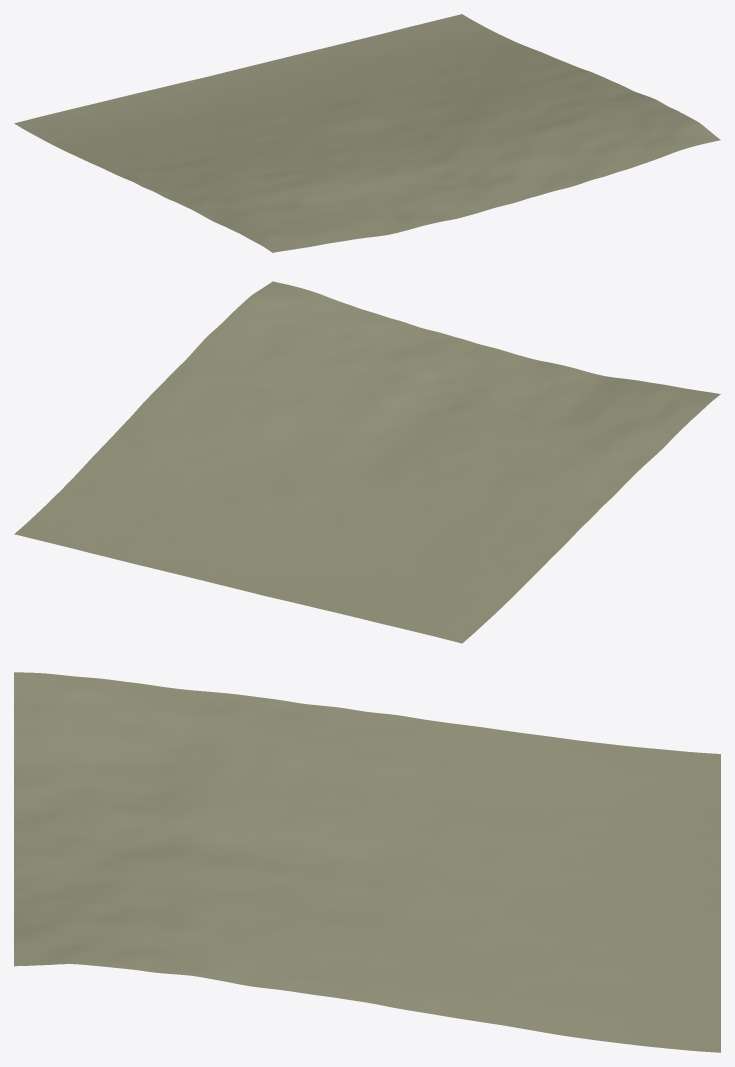
Rendered from SM_VB_CityTerrain_3_6.fbx.
3 views of the same model, one above another, from view 1: azimuth 30°, elevation 25°; view 2: azimuth 150°, elevation 25°; view 3: azimuth 270°, elevation 25° (orthographic). The views are drawn at different scales.
Visible parts, largest first — view 1: SM_VB_CityTerrain_3_6; view 2: SM_VB_CityTerrain_3_6; view 3: SM_VB_CityTerrain_3_6.
Boxes of the visible parts, <box> form: SM_VB_CityTerrain_3_6: <box>14,14,720,252</box>; SM_VB_CityTerrain_3_6: <box>14,281,720,643</box>; SM_VB_CityTerrain_3_6: <box>14,672,720,1052</box>.
Size of the model in its own units: 600 by 83.82 by 600.
